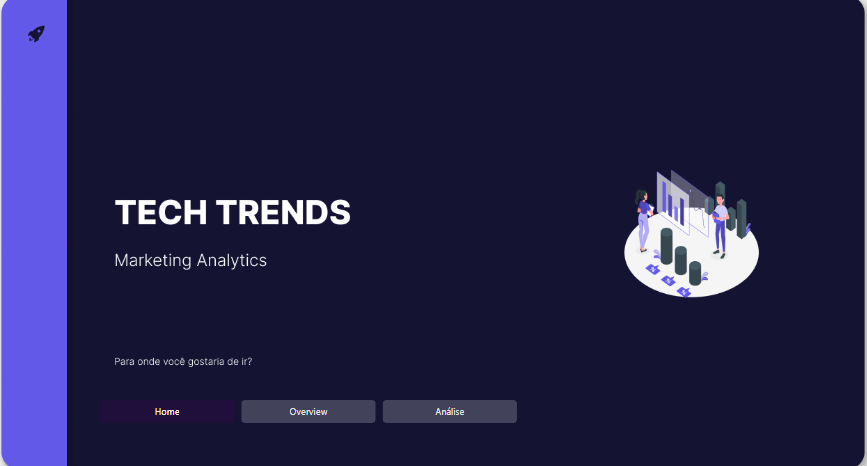

Layout of this report page (visuals, bound fields, positions):
{"tool":"powerbi","page":{"name":"Home","canvas":[1280,720],"ordinal":0},"visuals":[{"type":"pageNavigator","box":[162.7,596.1,599.6,33.7],"z":0}]}

Visuals, with their boxes on the page's 1280x720 design canvas (x1, y1, x2, y2). These are canvas units, not pixel positions in the 867x466 screenshot, which may show the page scaled, cropped or inside an application window:
pageNavigator: x1=163 y1=596 x2=762 y2=630
